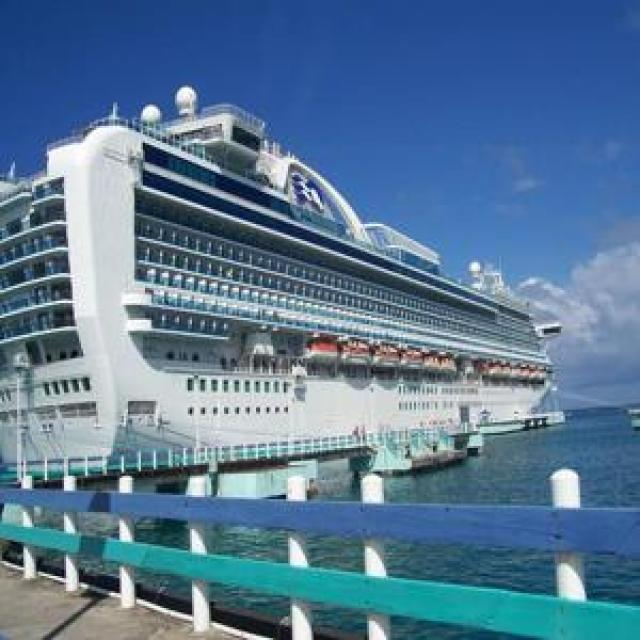passenger ship: (0, 86, 574, 464)
